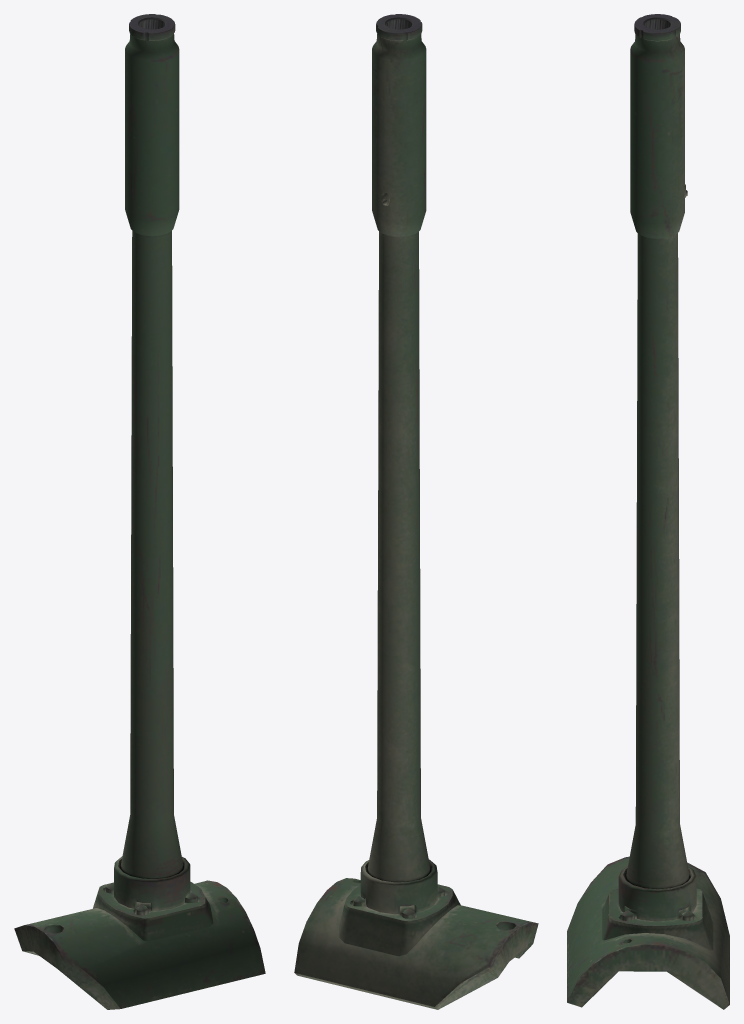
Rendered from Gun_01.glb.
3 renders of one model, left to right at view 1: azimuth 30°, elevation 25°; view 2: azimuth 150°, elevation 25°; view 3: azimuth 270°, elevation 25°, orthographic.
Visible parts, largest first — view 1: set_0_group_0; view 2: set_0_group_0; view 3: set_0_group_0.
Boxes of the visible parts, x1,y1,x2,y2 form: set_0_group_0: (14, 14, 265, 1009); set_0_group_0: (294, 14, 538, 1009); set_0_group_0: (567, 14, 729, 1009).
Size of the model in its own units: 0.8031 by 3.95 by 0.6119.
1 material, 1 textured.
